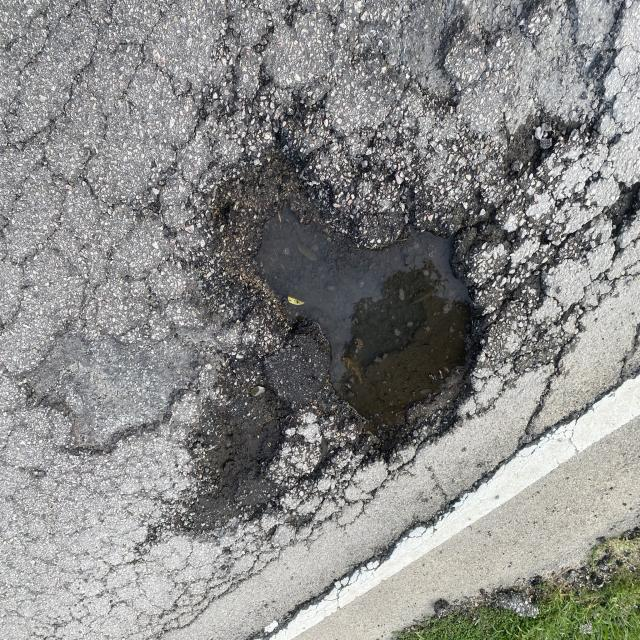pothole: (157, 81, 516, 466), (13, 348, 312, 523)
